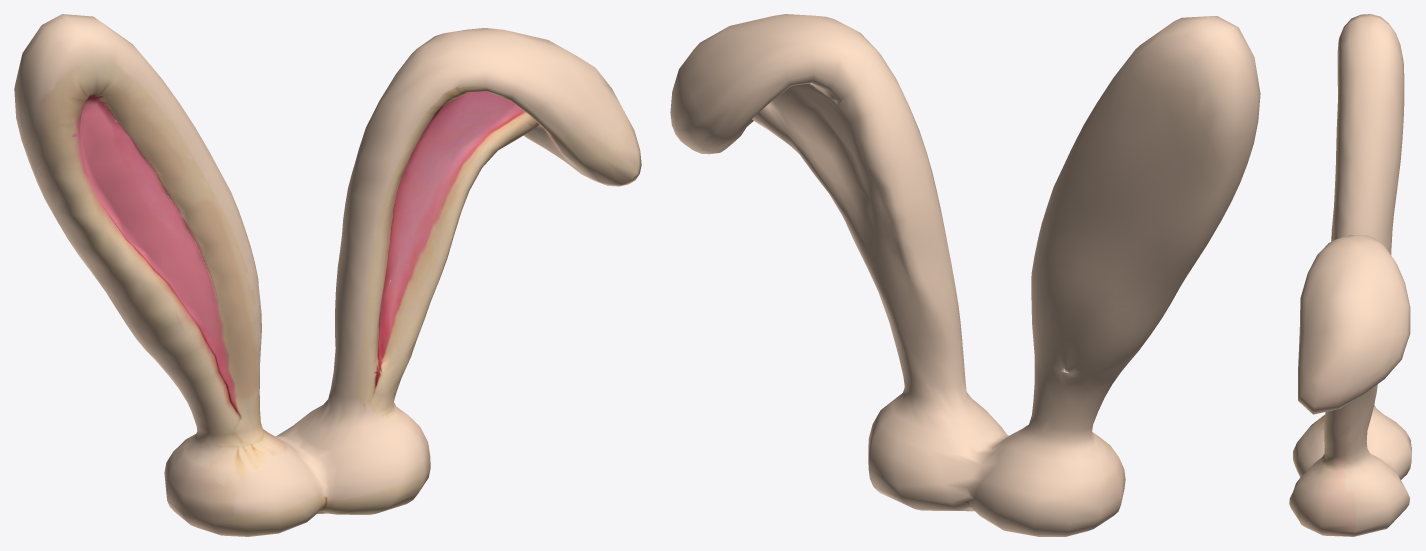
The model's file is Bunny.glb.
3 renders of one model, left to right at view 1: azimuth 30°, elevation 25°; view 2: azimuth 150°, elevation 25°; view 3: azimuth 270°, elevation 25°, orthographic. The views are drawn at different scales.
Parts seen in each view (by area): view 1: Bunny Ears; view 2: Bunny Ears; view 3: Bunny Ears.
Boxes of the visible parts, x1,y1,x2,y2 form: Bunny Ears: [14, 14, 641, 536]; Bunny Ears: [670, 14, 1260, 536]; Bunny Ears: [1289, 14, 1411, 536].
Size of the model in its own units: 0.4845 by 0.4223 by 0.1161.
Materials: 1 (1 with a texture image).
